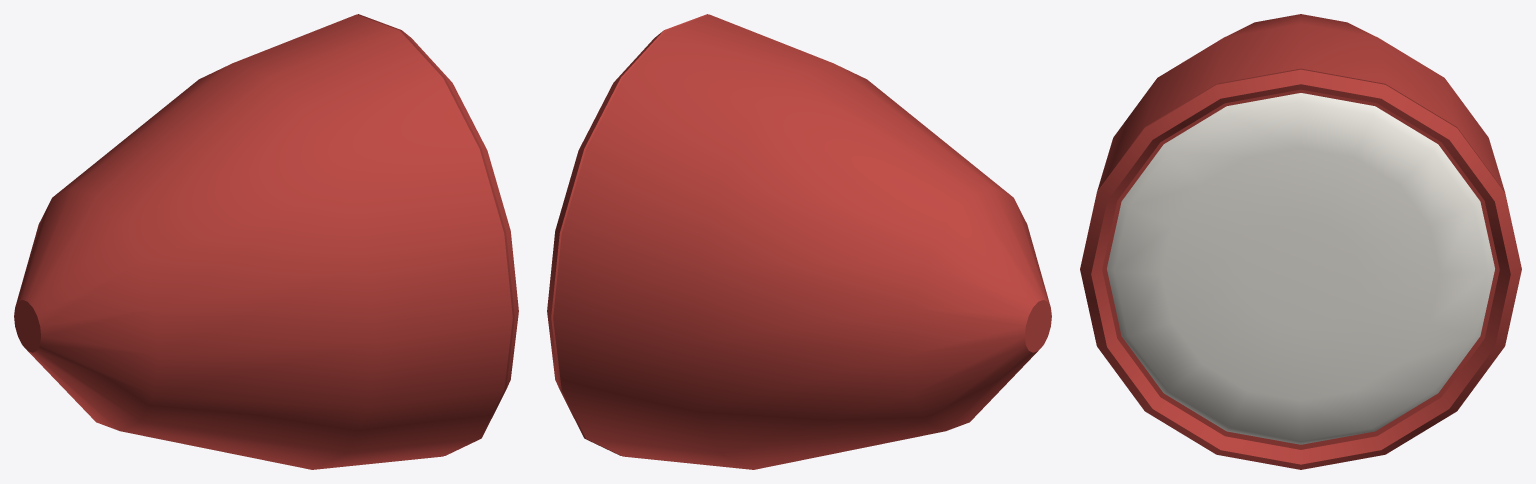
Rendered from bullet_lod1.glb.
3 renders of one model, left to right at view 1: azimuth 30°, elevation 25°; view 2: azimuth 150°, elevation 25°; view 3: azimuth 270°, elevation 25°, orthographic. The views are drawn at different scales.
Parts seen in each view (by area): view 1: bullet_lod1; view 2: bullet_lod1; view 3: bullet_lod1.
Boxes of the visible parts, x1,y1,x2,y2 form: bullet_lod1: (14, 14, 518, 469); bullet_lod1: (547, 14, 1051, 469); bullet_lod1: (1080, 14, 1521, 469).
Size of the model in its own units: 1.97 by 2 by 2.
